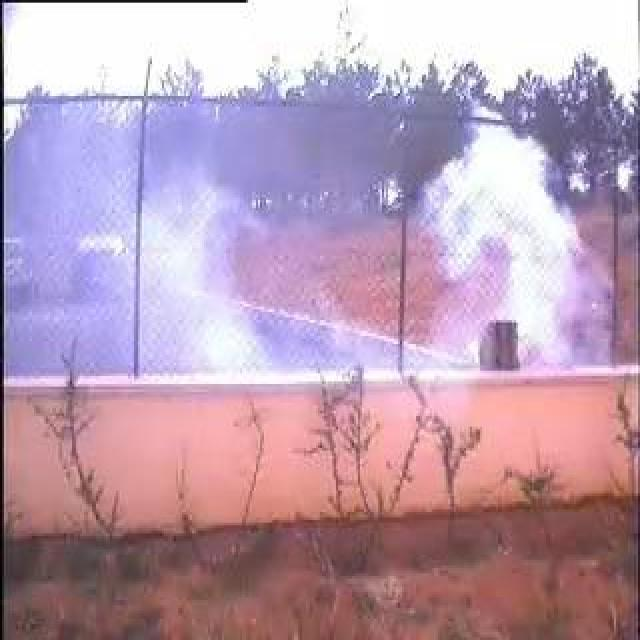Smoke: (113, 117, 611, 379)
